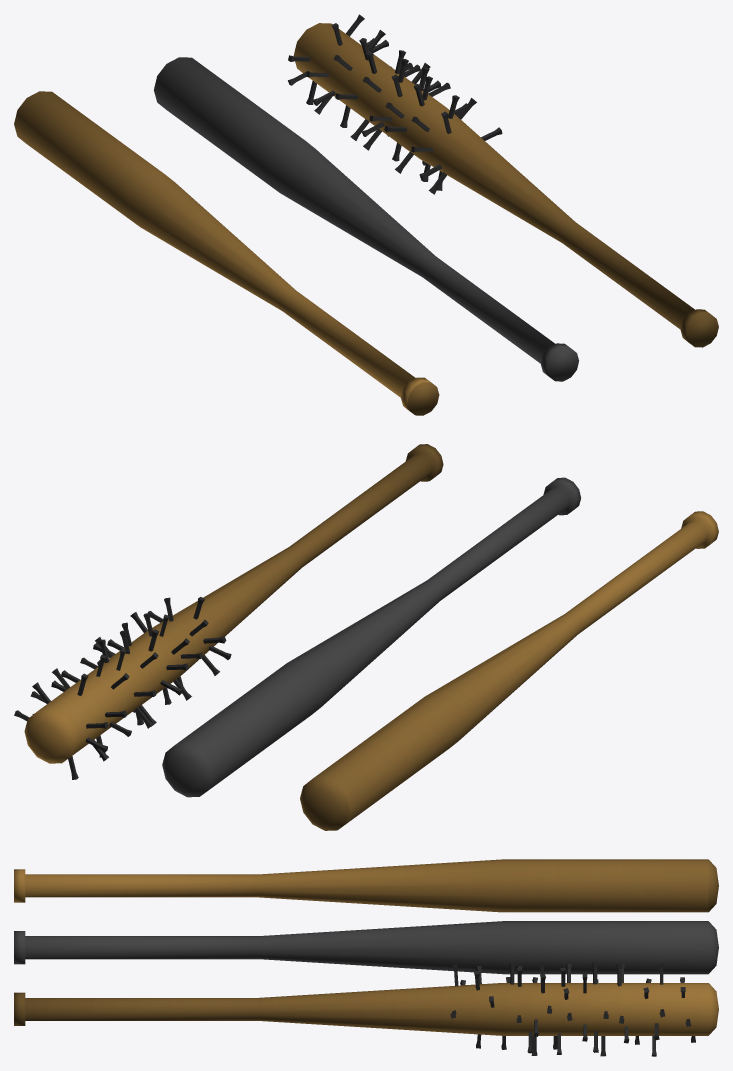
The model's file is BaseballBat.fbx.
3 renders of one model, top to bottom at view 1: azimuth 30°, elevation 25°; view 2: azimuth 150°, elevation 25°; view 3: azimuth 270°, elevation 25°, orthographic. The views are drawn at different scales.
Visible parts, largest first — view 1: BaseballBat, BaseballBatMetal, BaseballBatWithNails, Nail.115; view 2: BaseballBatMetal, BaseballBat, BaseballBatWithNails, Nail.115; view 3: BaseballBat, BaseballBatMetal, BaseballBatWithNails, Nail.115.
Boxes of the visible parts, bbox=[...] form: BaseballBat: bbox=[14, 91, 439, 415]; BaseballBatMetal: bbox=[154, 57, 578, 381]; BaseballBatWithNails: bbox=[293, 23, 718, 347]; Nail.115: bbox=[288, 14, 502, 194]; BaseballBatMetal: bbox=[162, 477, 580, 797]; BaseballBat: bbox=[300, 511, 718, 830]; BaseballBatWithNails: bbox=[24, 444, 443, 763]; Nail.115: bbox=[14, 597, 231, 779]; BaseballBat: bbox=[14, 859, 718, 912]; BaseballBatMetal: bbox=[14, 921, 718, 974]; BaseballBatWithNails: bbox=[14, 983, 718, 1035]; Nail.115: bbox=[450, 961, 695, 1056].
Size of the model in its own units: 251 by 65.31 by 483.
Materials: 4 (1 with a texture image).
